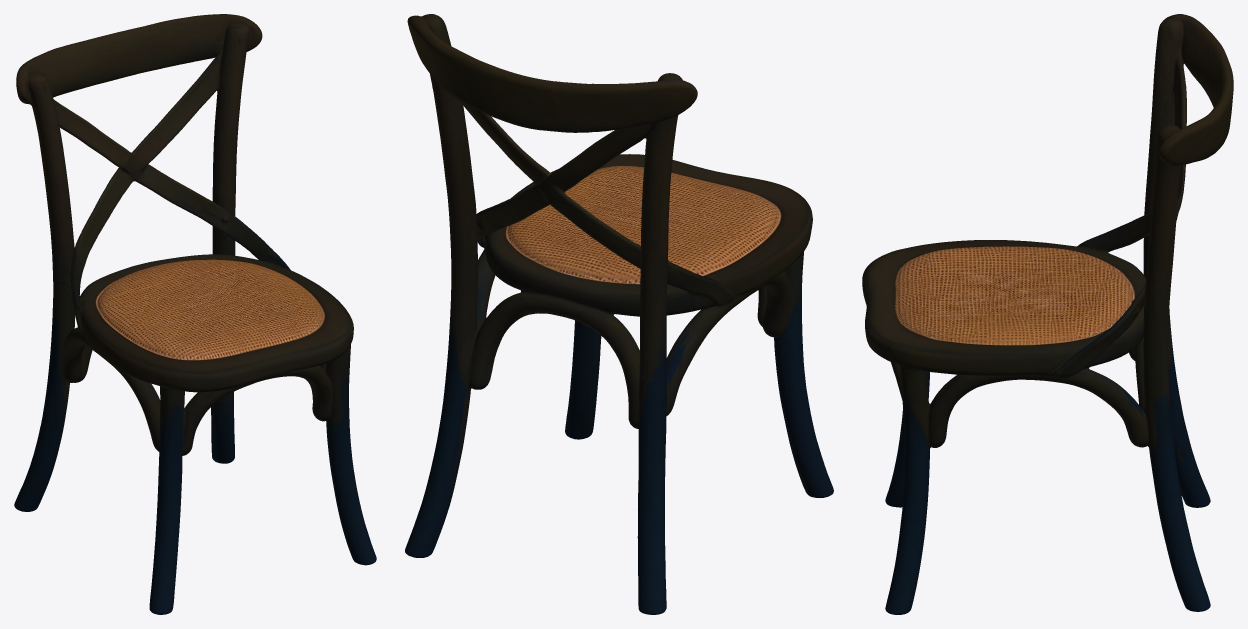
Rendered from c05_chair_s0.glb.
3 renders of one model, left to right at view 1: azimuth 30°, elevation 25°; view 2: azimuth 150°, elevation 25°; view 3: azimuth 270°, elevation 25°, orthographic. The views are drawn at different scales.
Parts seen in each view (by area): view 1: textured.obj; view 2: textured.obj; view 3: textured.obj.
Boxes of the visible parts, left/top/right/bottom form: textured.obj: left=14, top=14, right=376, bottom=614; textured.obj: left=405, top=14, right=833, bottom=614; textured.obj: left=862, top=14, right=1233, bottom=614.
Size of the model in its own units: 1.13 by 1.99 by 1.38.
Materials: 1 (1 with a texture image).
